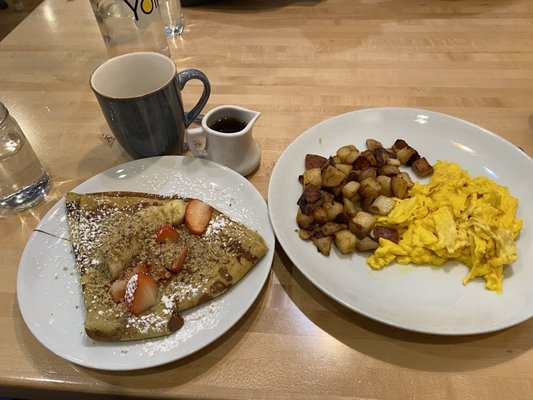pizza: (89, 52, 212, 160), (0, 99, 52, 216), (184, 104, 262, 177), (90, 0, 170, 57), (158, 0, 185, 46)
